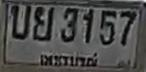1: (82, 9, 93, 42)
3: (60, 7, 78, 41)
5: (98, 10, 116, 44)
7: (120, 10, 135, 45)
A26: (9, 3, 31, 39)
A34: (32, 6, 54, 40)
PNB: (37, 50, 101, 70)
